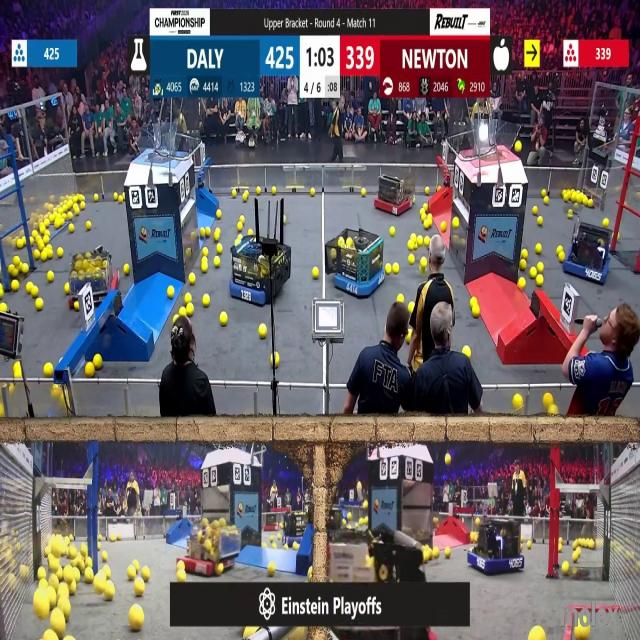ball_airborne: (516, 141, 523, 152)
ball_ground: (130, 607, 144, 632), (53, 612, 66, 635), (104, 584, 115, 602), (530, 627, 544, 640), (135, 581, 145, 597), (575, 628, 587, 640), (514, 394, 524, 408), (95, 580, 105, 594), (94, 354, 103, 368), (542, 393, 551, 407), (63, 601, 71, 616), (87, 362, 96, 375), (86, 569, 95, 582), (258, 324, 266, 338), (177, 569, 186, 581), (13, 361, 20, 376), (44, 362, 52, 375), (220, 313, 227, 327), (269, 562, 276, 576), (10, 280, 18, 292), (462, 346, 470, 358), (129, 567, 136, 580), (142, 567, 149, 580), (562, 562, 569, 575), (423, 550, 430, 563), (203, 294, 210, 306), (313, 268, 320, 280), (36, 300, 43, 312), (69, 584, 76, 596), (81, 546, 88, 558), (22, 264, 30, 274), (43, 632, 53, 640), (519, 278, 526, 289), (520, 261, 527, 272), (188, 274, 195, 285), (38, 568, 45, 579), (168, 286, 174, 298), (186, 305, 192, 317), (274, 354, 280, 366), (27, 282, 33, 294), (432, 548, 438, 560), (550, 408, 558, 417), (184, 293, 191, 303), (180, 307, 187, 317), (445, 548, 452, 558), (530, 268, 537, 278), (217, 564, 224, 574), (563, 191, 570, 201), (87, 558, 94, 568), (587, 199, 594, 209), (536, 276, 542, 287), (122, 265, 128, 276), (46, 272, 52, 283), (472, 307, 478, 318), (32, 286, 38, 297), (214, 256, 220, 267), (105, 567, 111, 578), (214, 231, 220, 242), (453, 217, 459, 228), (407, 334, 413, 345), (59, 248, 65, 258), (392, 265, 398, 275), (535, 244, 541, 254), (216, 244, 222, 254), (537, 264, 543, 274), (74, 302, 80, 312), (87, 220, 93, 230), (559, 252, 565, 262), (34, 250, 40, 260), (410, 241, 416, 251), (421, 260, 427, 270), (0, 304, 6, 314), (40, 251, 46, 261), (409, 304, 415, 314), (46, 250, 52, 260), (572, 553, 578, 563), (396, 294, 403, 302), (178, 562, 185, 570), (0, 405, 4, 419), (67, 212, 74, 220), (539, 188, 546, 196), (65, 283, 70, 294), (243, 191, 249, 200), (522, 249, 528, 258), (68, 223, 74, 232), (470, 296, 476, 305), (102, 553, 108, 562), (8, 266, 14, 275), (418, 237, 424, 246), (13, 255, 19, 264), (74, 207, 80, 216), (30, 238, 36, 247), (410, 254, 415, 264), (424, 237, 429, 247), (203, 248, 209, 256), (532, 207, 538, 215), (412, 234, 418, 242), (237, 222, 243, 230), (94, 193, 100, 201), (603, 218, 609, 226), (557, 246, 563, 254), (203, 265, 208, 274), (442, 221, 447, 230), (216, 210, 221, 219), (537, 216, 542, 225), (386, 266, 391, 275), (421, 209, 426, 218), (118, 193, 123, 202), (185, 248, 190, 257), (0, 287, 4, 298), (292, 542, 298, 549), (424, 220, 429, 228), (543, 198, 548, 206), (388, 226, 392, 236), (363, 500, 368, 508), (201, 230, 206, 238), (359, 518, 364, 526), (584, 618, 589, 626), (343, 518, 348, 526), (272, 186, 276, 195), (202, 256, 208, 262), (44, 236, 48, 245), (558, 544, 564, 550), (248, 230, 253, 237), (240, 215, 245, 222), (348, 514, 353, 521), (311, 188, 316, 195), (282, 216, 287, 223), (361, 188, 365, 196), (528, 540, 532, 548), (568, 210, 572, 218), (256, 186, 260, 194), (114, 192, 118, 200), (80, 202, 84, 210), (264, 542, 269, 548), (425, 187, 429, 194), (233, 190, 237, 197), (98, 542, 102, 549), (66, 636, 73, 640), (236, 240, 240, 247), (284, 543, 288, 549), (274, 542, 278, 548), (278, 536, 282, 542), (99, 534, 102, 540)
goal: (466, 121, 522, 160), (130, 130, 189, 160)
robot_blue: (230, 240, 294, 308), (328, 230, 387, 300), (468, 518, 524, 574), (566, 222, 614, 284), (283, 512, 309, 547)
robot_red: (186, 515, 240, 575), (66, 250, 118, 310), (374, 166, 414, 214), (266, 512, 282, 530)
